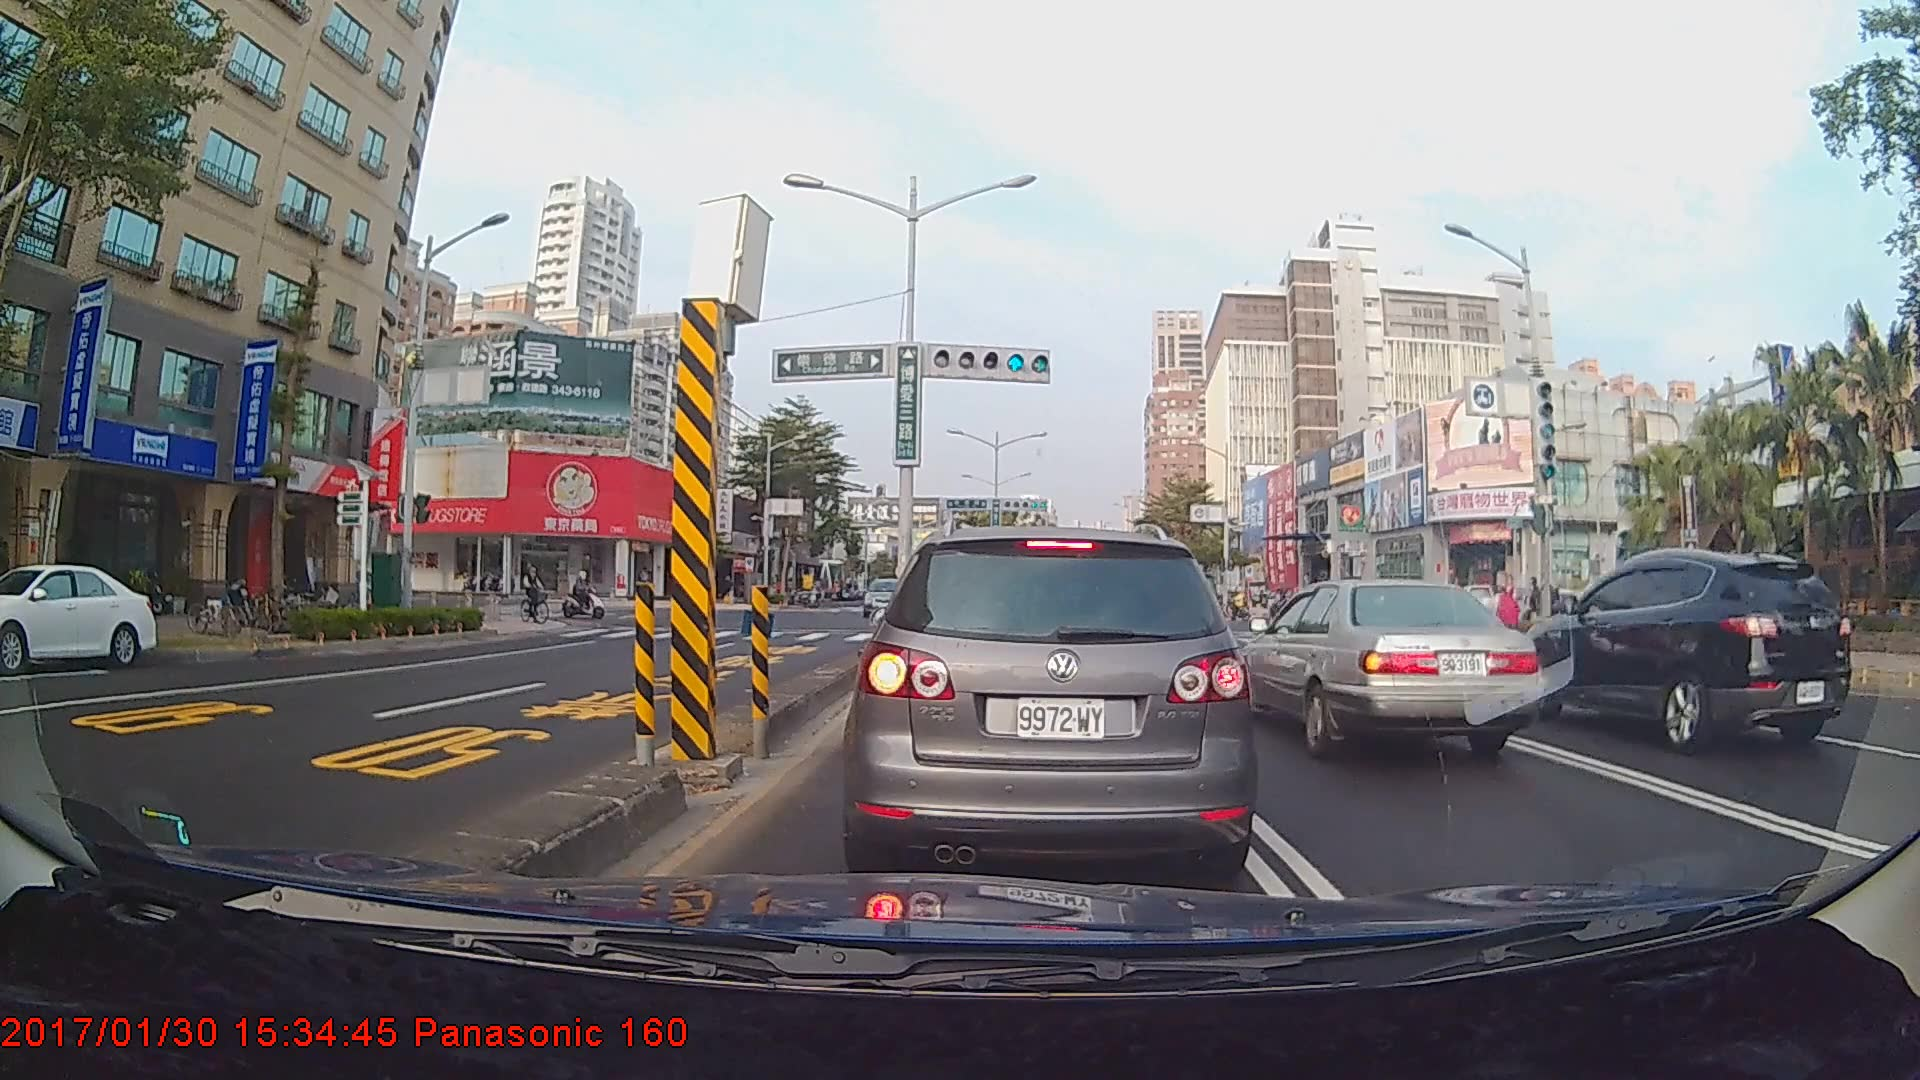rider: (518, 559, 561, 629), (564, 568, 615, 625)
vehicle: (851, 522, 1251, 883), (1524, 546, 1855, 752), (1230, 574, 1543, 757), (0, 561, 162, 671), (861, 577, 915, 618)
